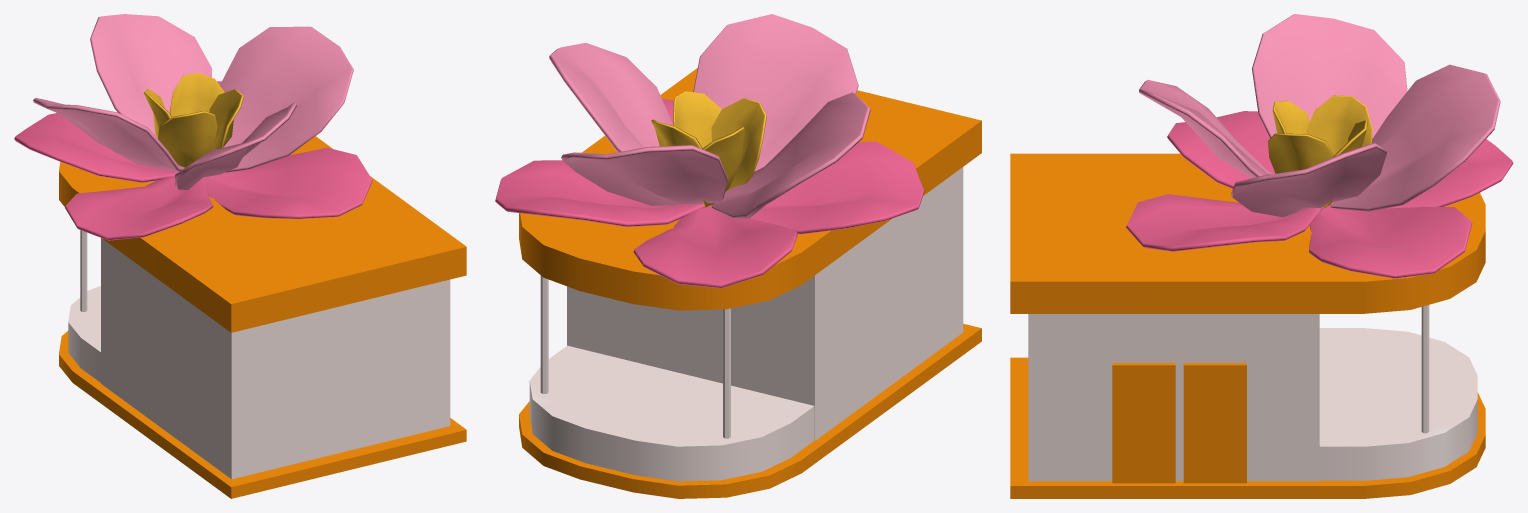
3 views of the same model, side by side, from view 1: azimuth 30°, elevation 25°; view 2: azimuth 150°, elevation 25°; view 3: azimuth 270°, elevation 25° (orthographic). The views are drawn at different scales.
Parts seen in each view (by area): view 1: base_04; view 2: base_04; view 3: base_04.
Boxes of the visible parts, <box> form: base_04: <box>14,14,466,498</box>; base_04: <box>495,14,981,498</box>; base_04: <box>1010,14,1513,498</box>.
Bounding box in the file's own units: 4478 × 4363 × 5811.
1 material, 1 textured.
